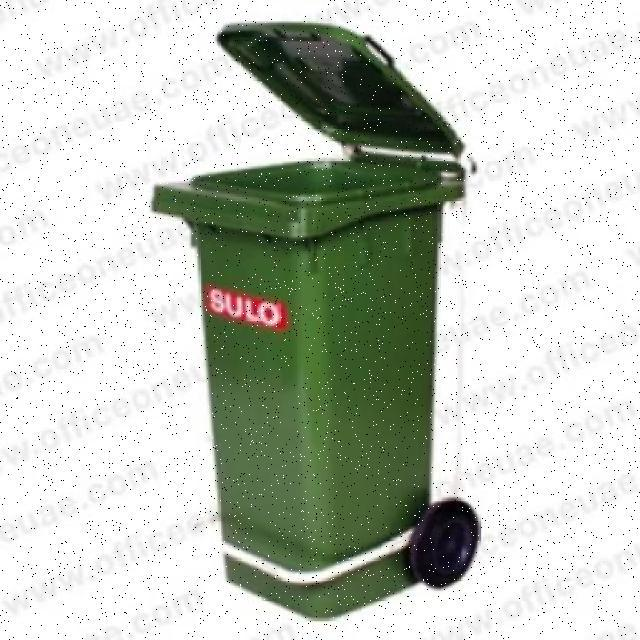garbage container: (142, 10, 496, 629)
